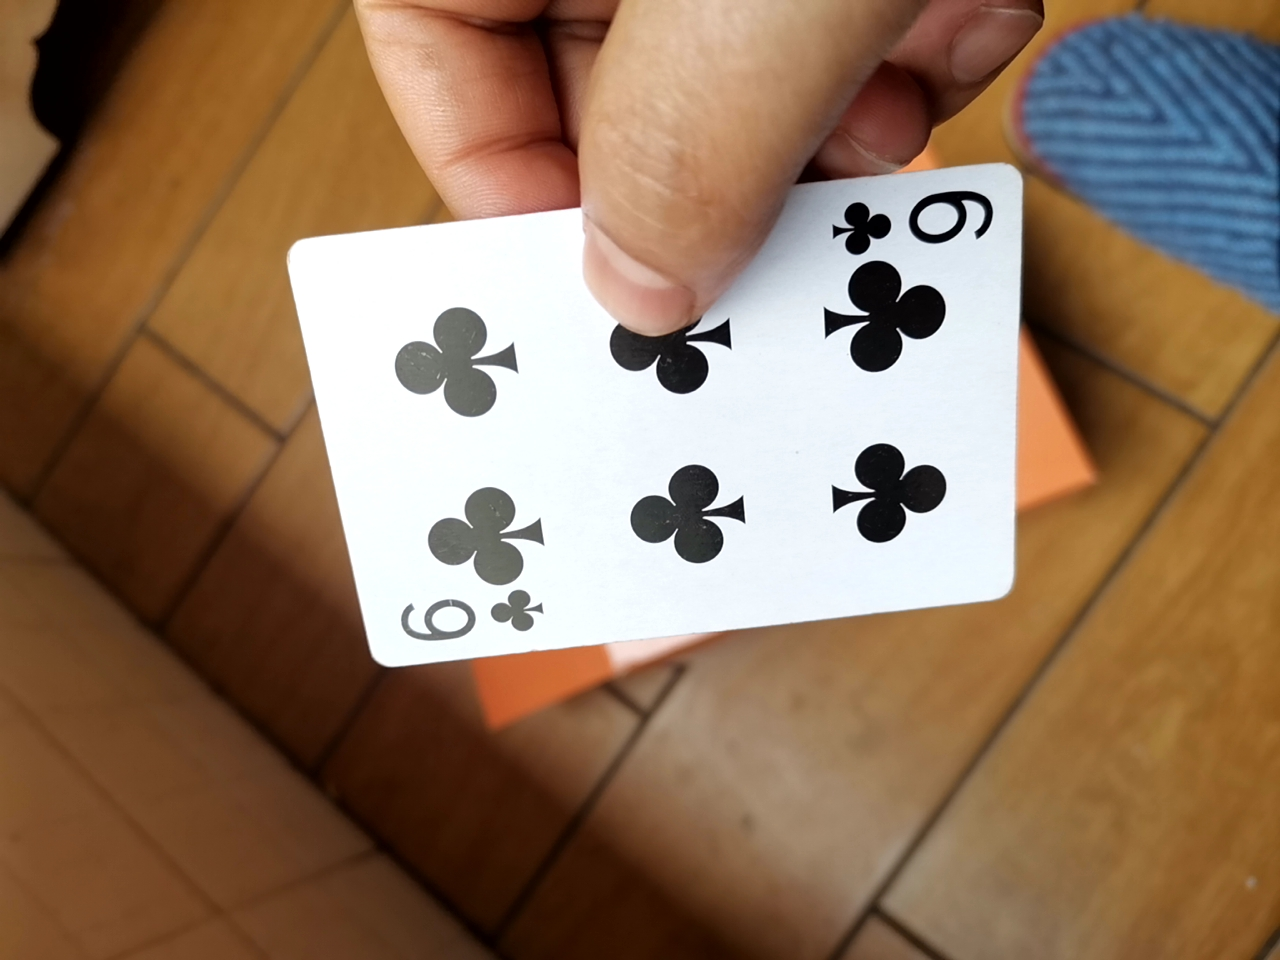mh 6: (258, 151, 1022, 677)
